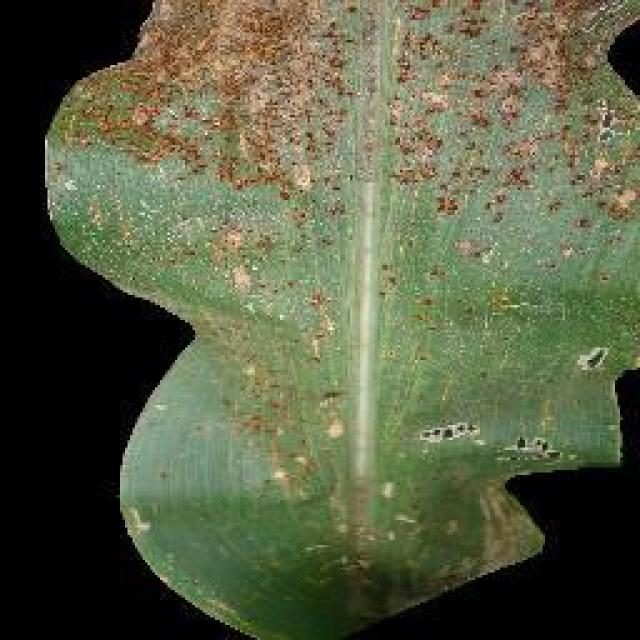Corn Common Rust: (55, 43, 585, 287)
